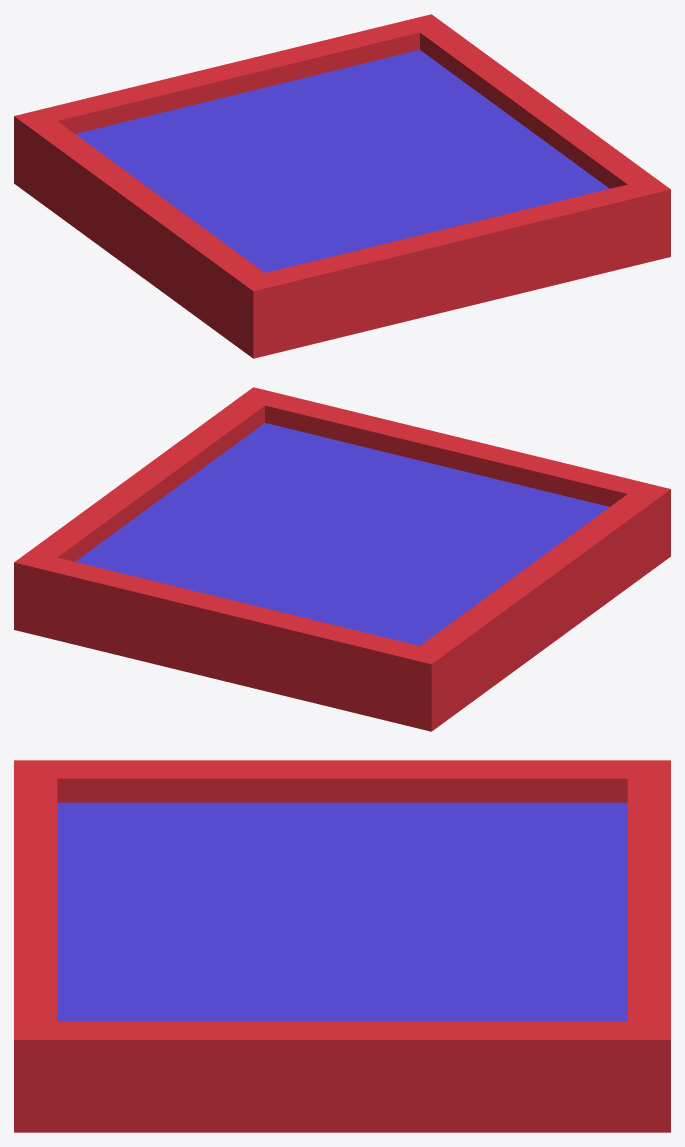
The model's file is platform.glb.
The picture shows the model from 3 angles, top to bottom: view 1: azimuth 30°, elevation 25°; view 2: azimuth 150°, elevation 25°; view 3: azimuth 270°, elevation 25°; orthographic projection. The views are drawn at different scales.
Visible parts, largest first — view 1: Platform; view 2: Platform; view 3: Platform.
Part boxes in pixels (x1,y1,x2,y2): Platform: (14,14,670,358); Platform: (14,387,670,731); Platform: (14,760,670,1132).
Bounding box in the file's own units: 4.03 × 0.6227 × 4.01.
